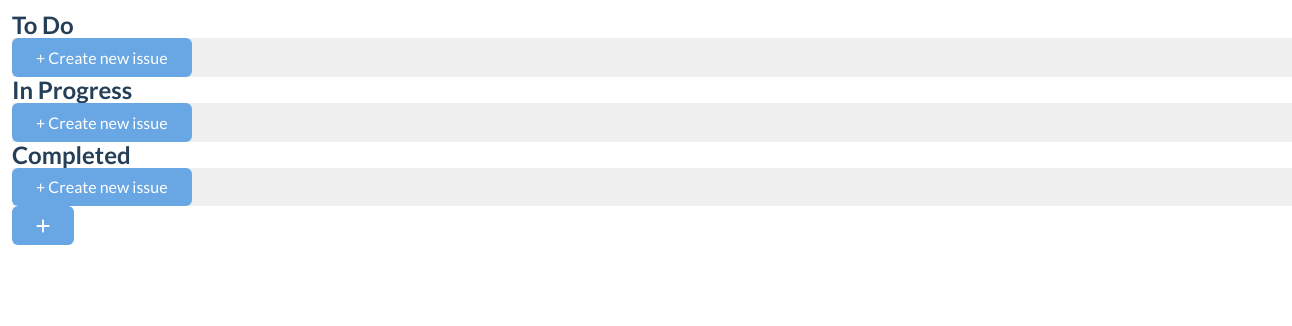
Test case: KanbanBoard › base categories rendering › categories rendering
Click the 1st button with test id "add_category" at (43, 226), box [12, 206, 74, 245]
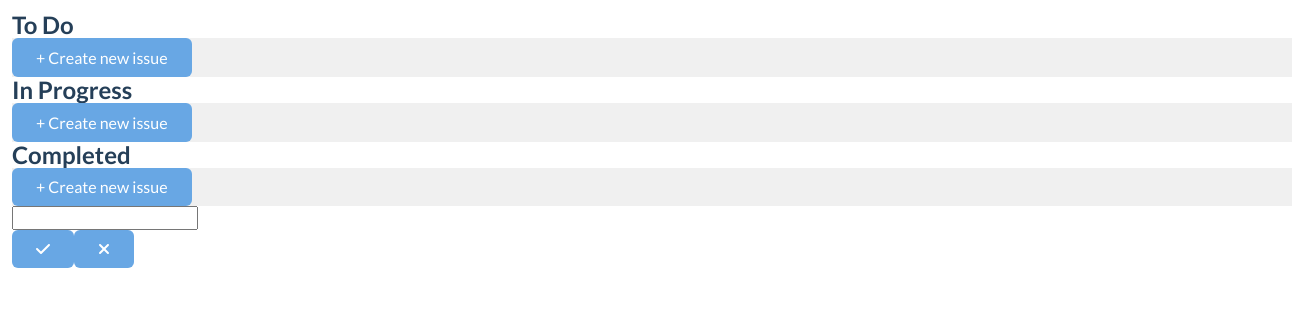
Type "New Category" into the field with test id "category_name_input" at (105, 218), box [12, 206, 198, 230]
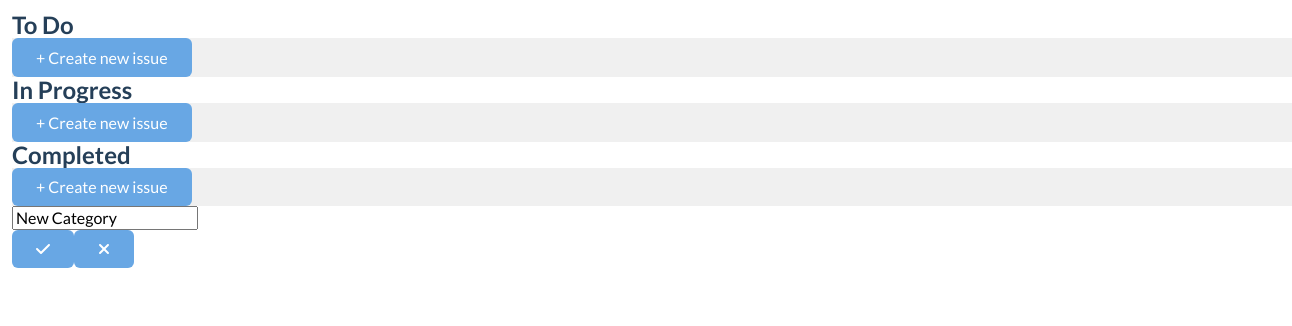
Click the button with test id "save_category" at (43, 249), box [12, 230, 74, 268]
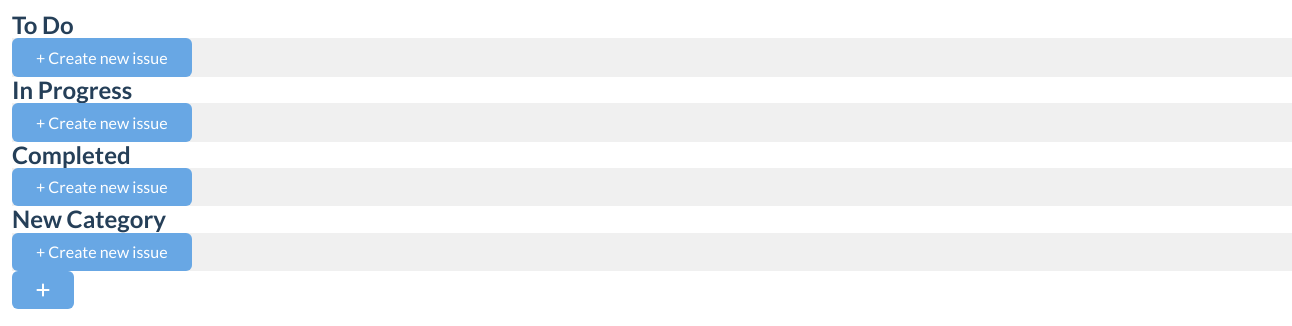
Check: the heading "In Progress" is shown, box [12, 75, 132, 104]
Check: the heading "New Category" is shown, box [12, 204, 166, 233]
